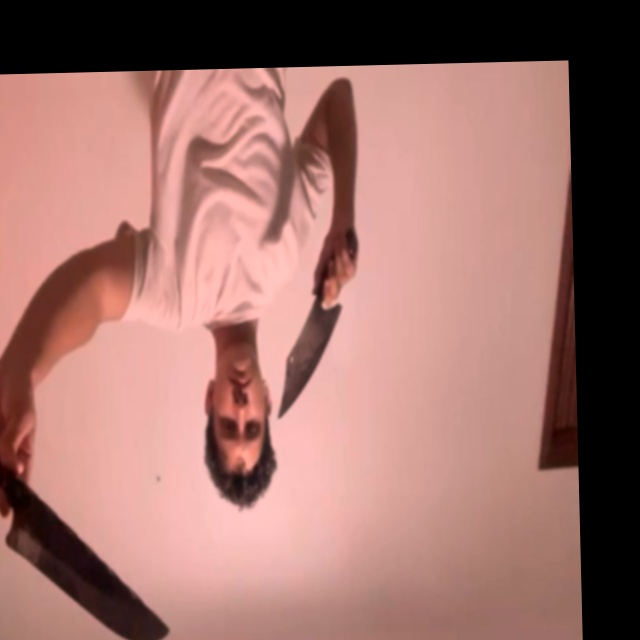Sharp-Object: (2, 522, 170, 640), (276, 305, 345, 420)
